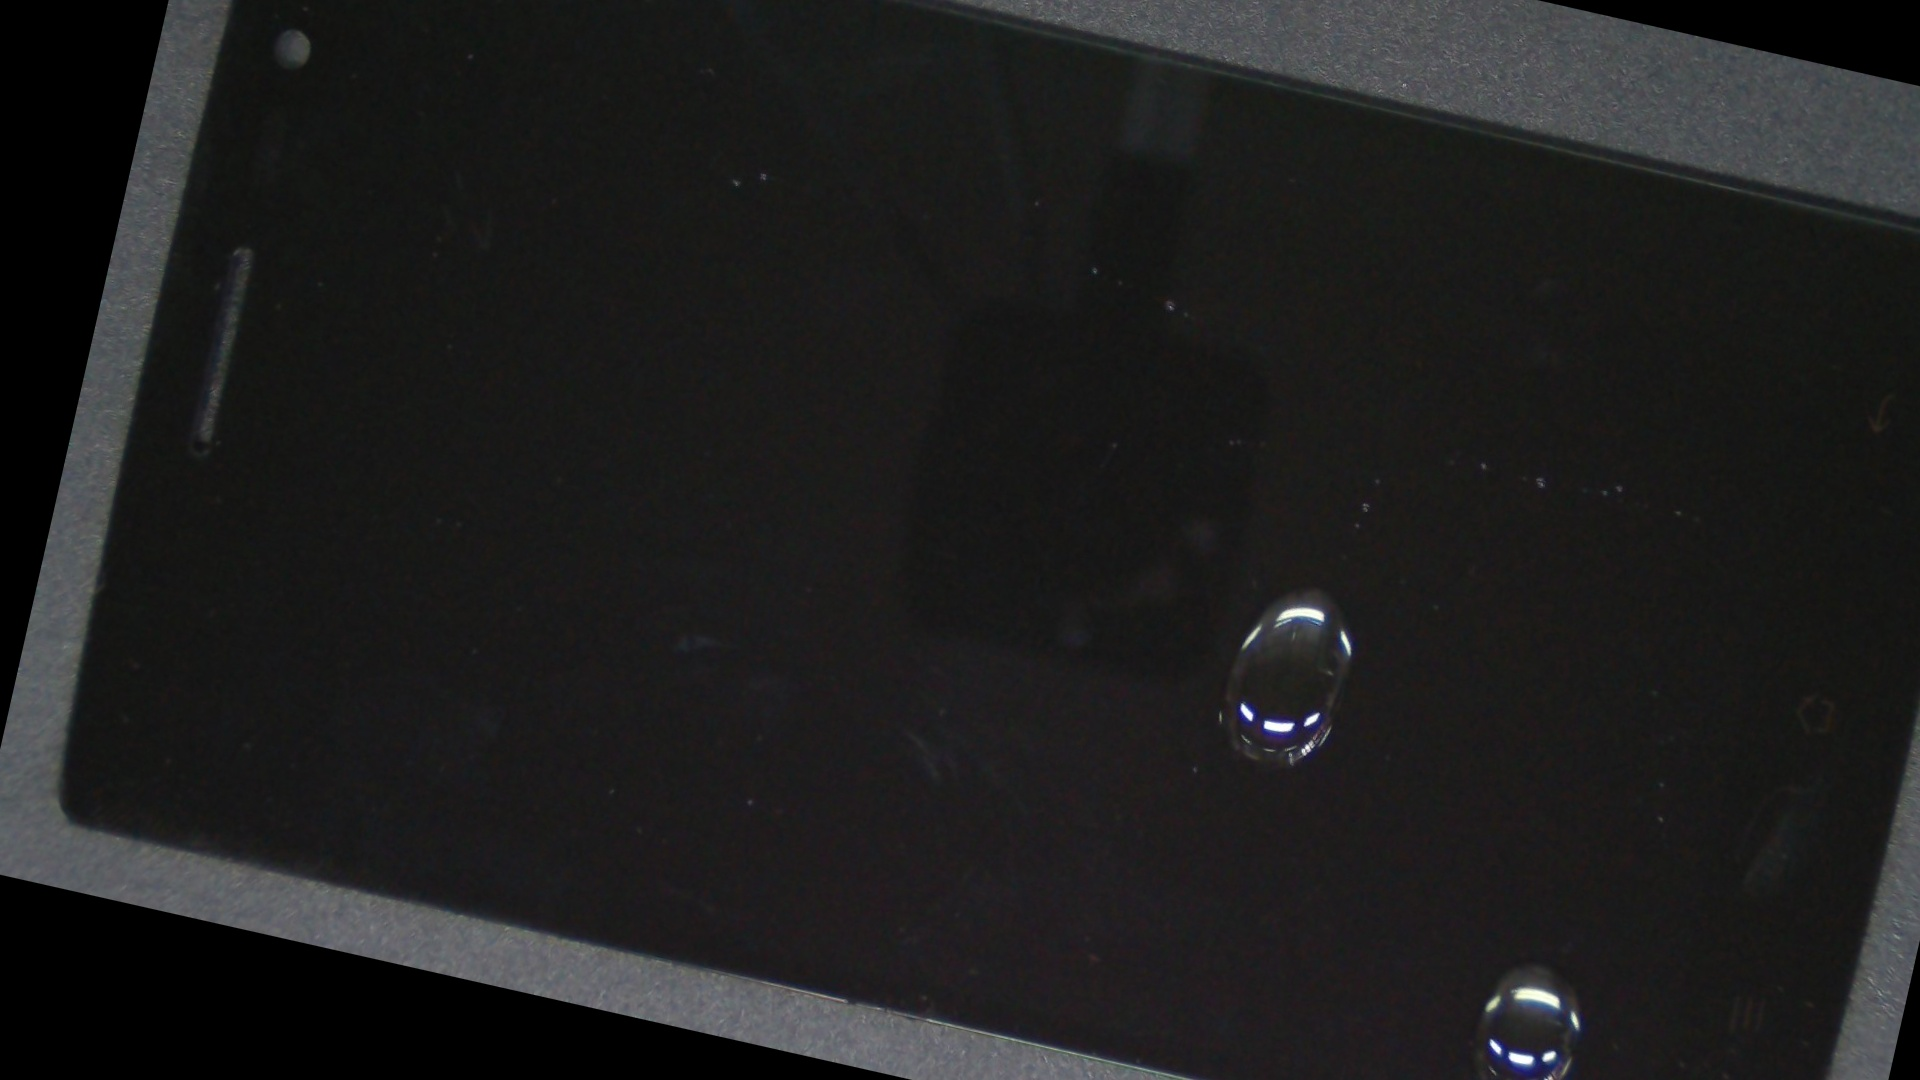oil: (637, 145, 1920, 1022), (727, 334, 1920, 1080)
